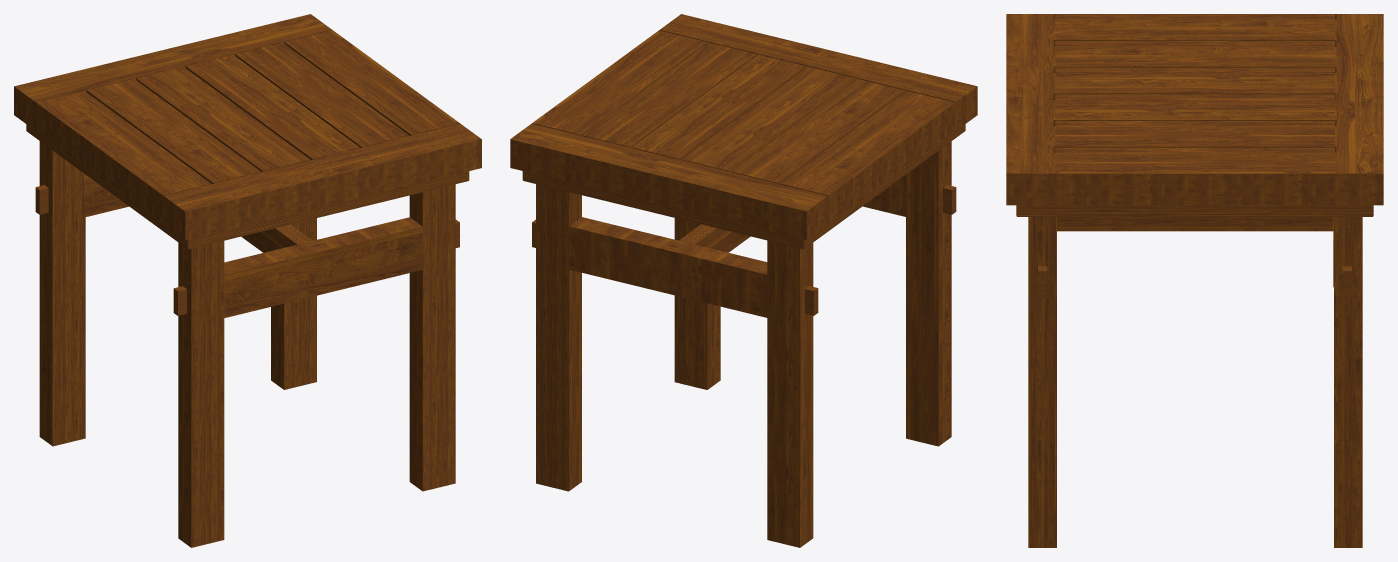
3 views of the same model, side by side, from view 1: azimuth 30°, elevation 25°; view 2: azimuth 150°, elevation 25°; view 3: azimuth 270°, elevation 25° (orthographic). The views are drawn at different scales.
Parts seen in each view (by area): view 1: Cube.013, Cube.003, Cube.002, Cube.005, Cube.006, Cube.004, Cube.014, Cube.016, Cube.008, Cube.007; view 2: Cube.013, Cube.005, Cube.004, Cube.003, Cube.007, Cube.002, Cube.015, Cube.016, Cube.008, Cube.006; view 3: Cube.013, Cube.004, Cube.002, Cube.017, Cube.008.
Boxes of the visible parts, x1,y1,x2,y2 form: Cube.013: (14,14,481,240); Cube.003: (178,241,224,547); Cube.002: (409,184,455,491); Cube.005: (39,141,85,446); Cube.006: (224,217,422,317); Cube.004: (271,218,316,389); Cube.014: (188,171,468,249); Cube.016: (26,124,188,248); Cube.008: (241,224,312,252); Cube.007: (83,174,128,217); Cube.013: (510,14,977,240); Cube.005: (767,240,813,547); Cube.004: (536,184,581,491); Cube.003: (906,141,951,446); Cube.007: (569,217,767,317); Cube.002: (674,218,720,389); Cube.015: (523,171,803,248); Cube.016: (803,124,965,248); Cube.008: (679,224,750,252); Cube.006: (863,175,905,216); Cube.013: (1006,14,1383,205); Cube.004: (1334,217,1362,547); Cube.002: (1028,217,1056,547); Cube.017: (1017,205,1372,216); Cube.008: (1057,217,1333,231).
Bounding box in the file's own units: 0.3915 × 0.4382 × 0.3913.
Materials: 1 (1 with a texture image).
